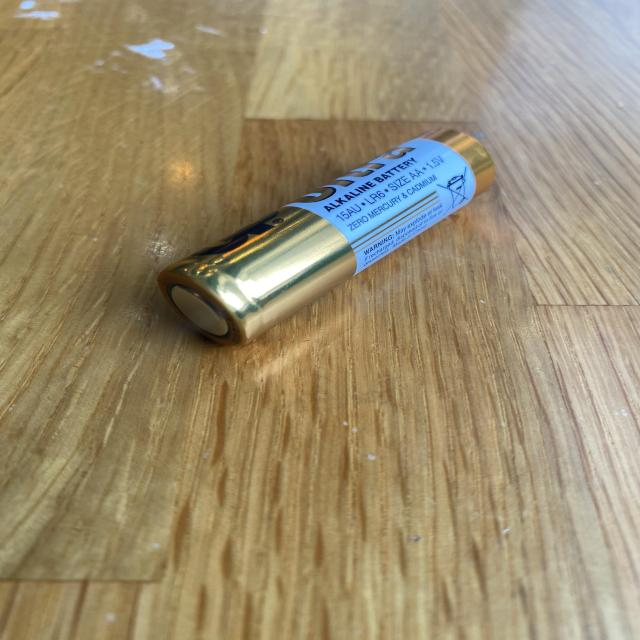AA: (156, 125, 495, 348)
